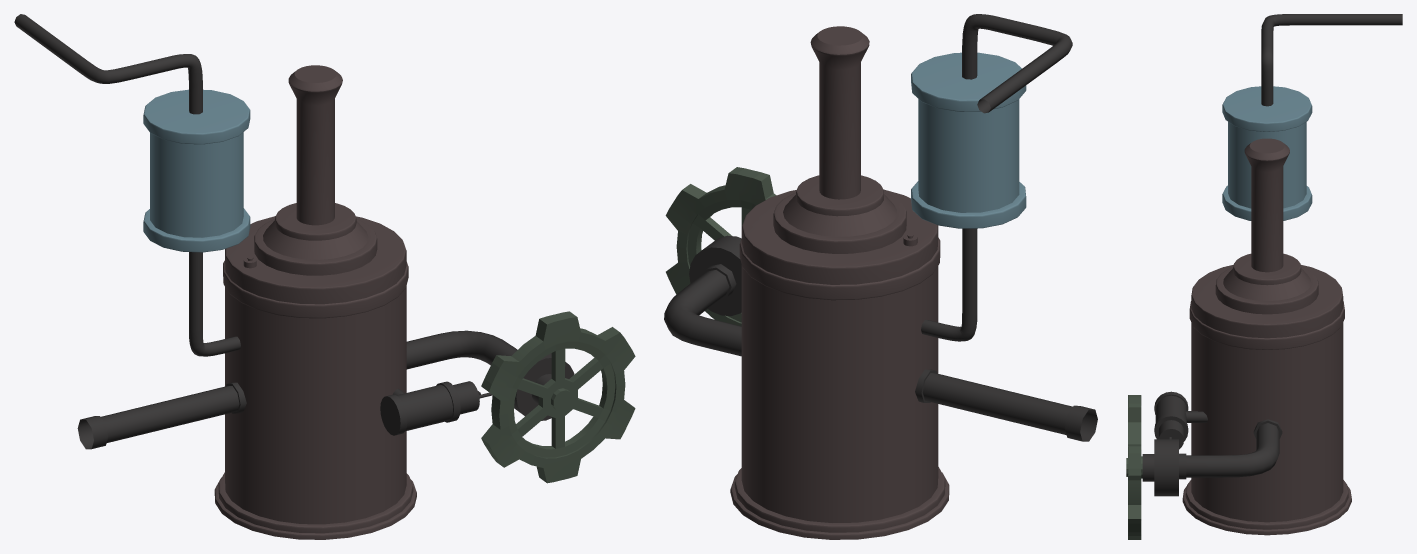
File: boiler.fbx
3 renders of one model, left to right at view 1: azimuth 30°, elevation 25°; view 2: azimuth 150°, elevation 25°; view 3: azimuth 270°, elevation 25°, orthographic. The views are drawn at different scales.
Parts seen in each view (by area): view 1: boiler, vintFirst, waterTank, pipeWater, pipeFromStove, pipePush, pipeFromBoiler, disk; view 2: boiler, waterTank, pipeWater, pipeFromStove, vintFirst, pipeFromBoiler, disk; view 3: boiler, waterTank, pipeFromBoiler, pipeWater, vintFirst, disk, pipePush, pusher.
Boxes of the visible parts, x1,y1,x2,y2 form: boiler: [214, 65, 416, 539]; vintFirst: [481, 311, 635, 483]; waterTank: [143, 89, 250, 252]; pipeWater: [14, 14, 240, 356]; pipeFromStove: [77, 382, 246, 449]; pipePush: [380, 381, 460, 435]; pipeFromBoiler: [406, 330, 517, 369]; disk: [514, 353, 574, 420]; boiler: [730, 26, 949, 539]; waterTank: [911, 52, 1026, 228]; pipeWater: [921, 14, 1072, 341]; pipeFromStove: [915, 369, 1097, 441]; vintFirst: [665, 167, 776, 326]; pipeFromBoiler: [664, 264, 741, 356]; disk: [689, 235, 741, 316]; boiler: [1182, 138, 1351, 535]; waterTank: [1222, 86, 1312, 220]; pipeFromBoiler: [1179, 419, 1282, 479]; pipeWater: [1261, 14, 1402, 106]; vintFirst: [1126, 395, 1142, 539]; disk: [1142, 439, 1178, 496]; pipePush: [1154, 391, 1207, 441]; pusher: [1158, 420, 1183, 449].
Size of the model in its own units: 296 by 289 by 182.
